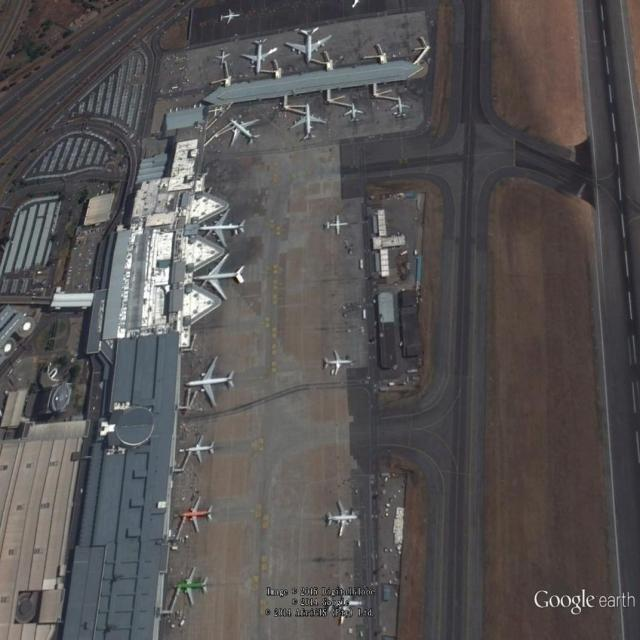aircraft: (192, 251, 250, 307), (184, 354, 238, 410), (197, 206, 249, 250), (285, 27, 334, 67), (287, 102, 331, 144), (172, 563, 212, 608), (241, 36, 280, 78), (325, 496, 359, 542), (178, 494, 216, 533), (180, 431, 217, 467), (226, 116, 264, 148), (320, 347, 354, 378), (323, 211, 351, 239), (341, 100, 368, 127), (389, 94, 414, 122), (218, 3, 242, 29), (214, 46, 233, 68)
